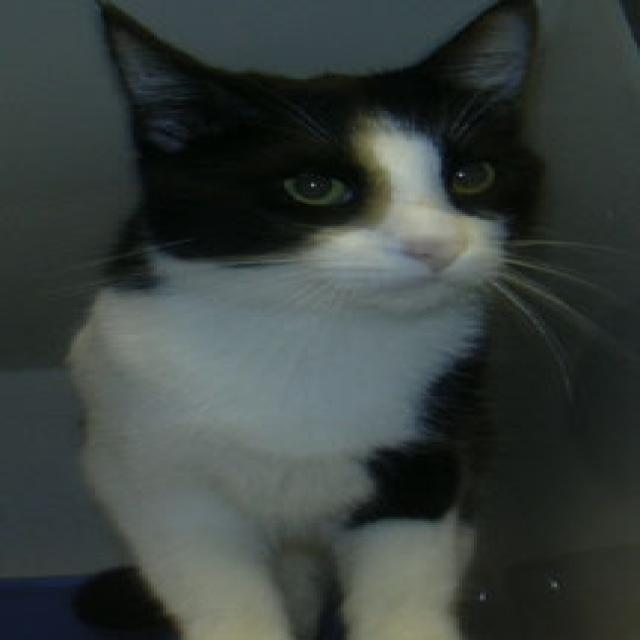Cats: (62, 0, 637, 638)
